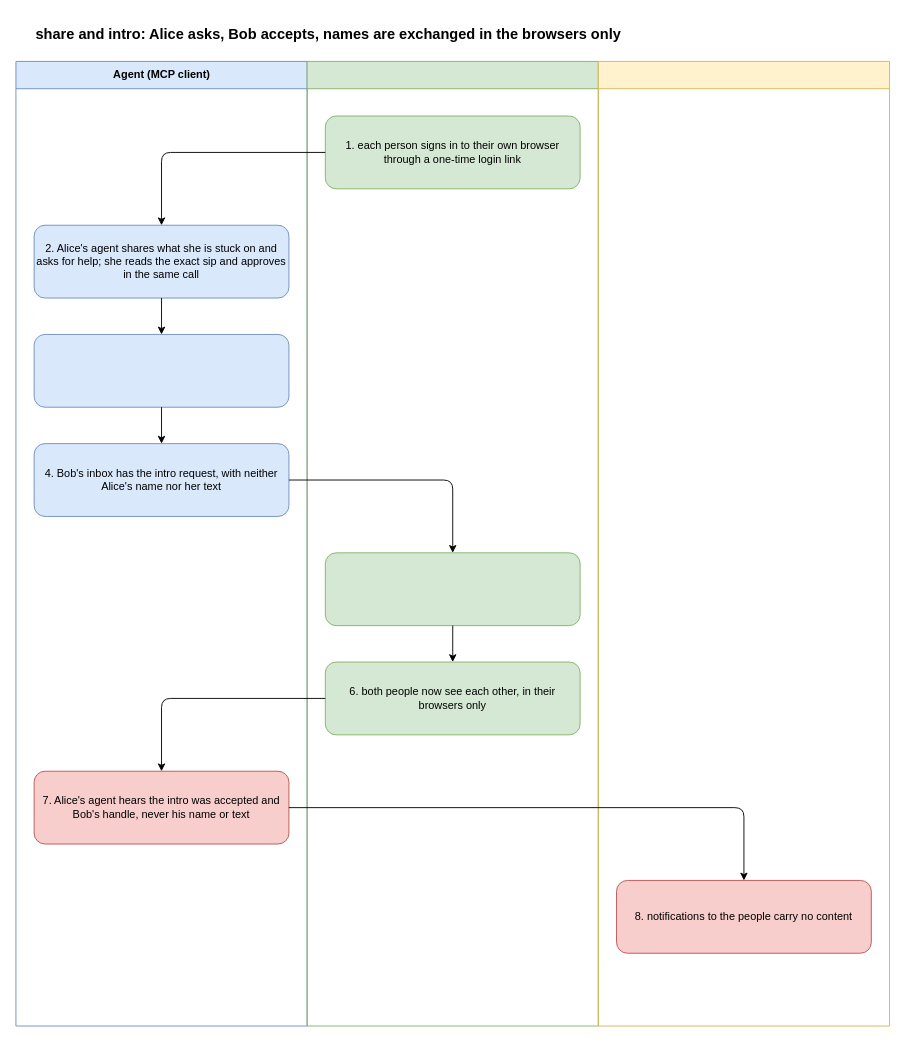
This 905x1042 diagram has some shape labels left out. The shapes that lost their labels are listed below. From the top down, each one's box as (x1, y1, x2, y2) in pixels, then its label:
(33, 334, 289, 407): 3. Bob's agent hears about it before his next prompt (the reminder hook text)
(306, 61, 598, 1026): Person (browser)
(597, 61, 890, 1026): Relay
(324, 552, 580, 626): 5. Bob reads what she is stuck on, not who she is, and accepts in his browser
